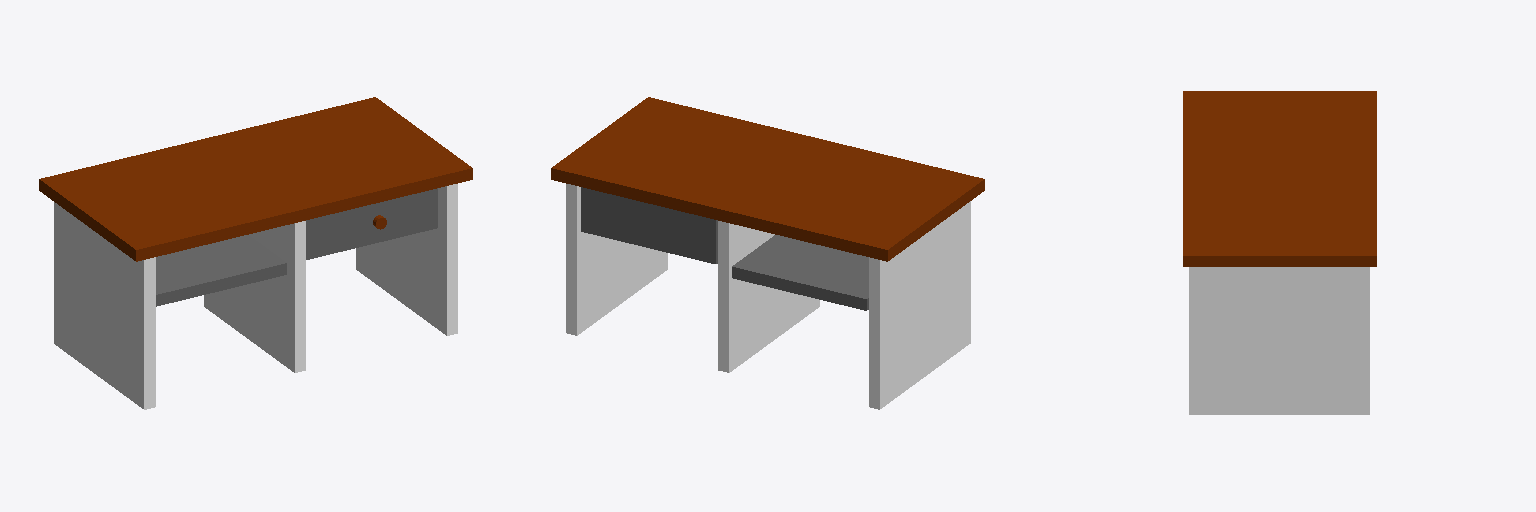
The model's file is cft.obj.
3 renders of one model, left to right at view 1: azimuth 30°, elevation 25°; view 2: azimuth 150°, elevation 25°; view 3: azimuth 270°, elevation 25°, orthographic.
Parts seen in each view (by area): view 1: Box001, Box002, Box004, Box003, Box005, Box006; view 2: Box001, Box002, Box003, Box004, Box005, Box006; view 3: Box001, Box004.
Part boxes in pixels (x1,y1,x2,y2): Box001: (39, 97, 472, 261); Box002: (54, 202, 155, 409); Box004: (356, 184, 457, 335); Box003: (204, 221, 305, 372); Box005: (156, 235, 286, 306); Box006: (306, 188, 437, 259); Box001: (551, 97, 984, 261); Box002: (869, 201, 970, 409); Box003: (718, 221, 819, 372); Box004: (566, 184, 667, 335); Box005: (732, 235, 868, 310); Box006: (581, 187, 717, 263); Box001: (1183, 91, 1376, 266); Box004: (1189, 267, 1369, 414).
Bounding box in the file's own units: 300 × 141 × 150.